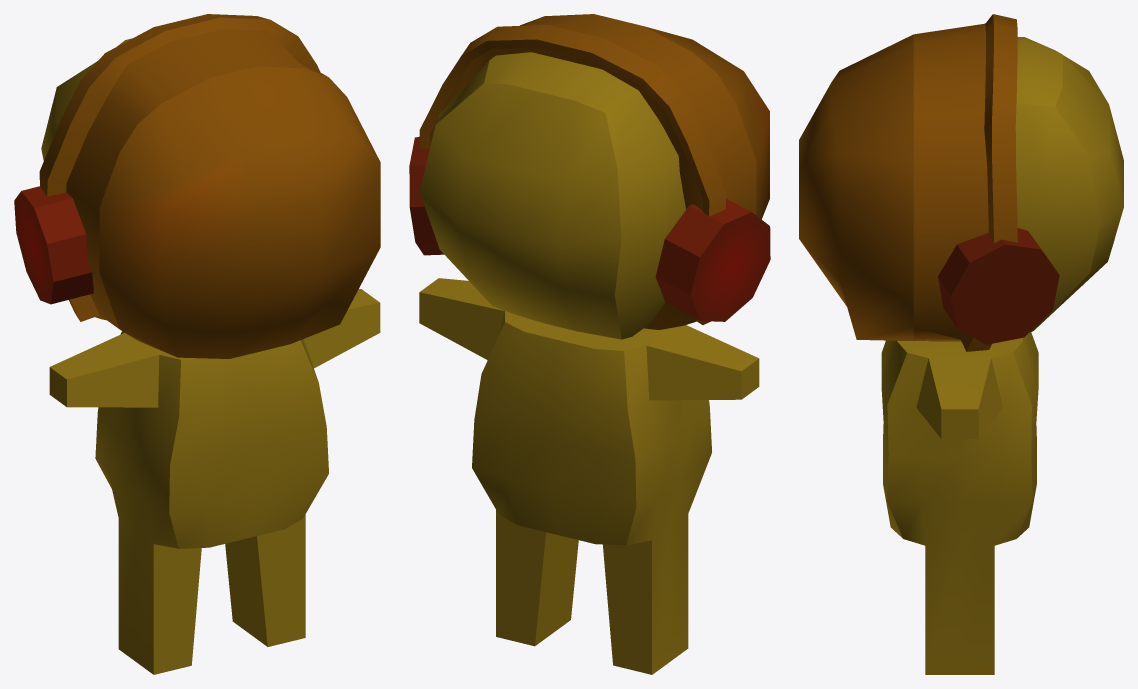
Rendered from COLORastronaut.fbx.
3 views of the same model, side by side, from view 1: azimuth 30°, elevation 25°; view 2: azimuth 150°, elevation 25°; view 3: azimuth 270°, elevation 25° (orthographic). The views are drawn at different scales.
Visible parts, largest first — view 1: pCube10; view 2: pCube10; view 3: pCube10.
Boxes of the visible parts, x1,y1,x2,y2 form: pCube10: (14,14,380,674); pCube10: (409,14,770,674); pCube10: (799,14,1123,674).
Size of the model in its own units: 1.28 by 2.24 by 1.1.
